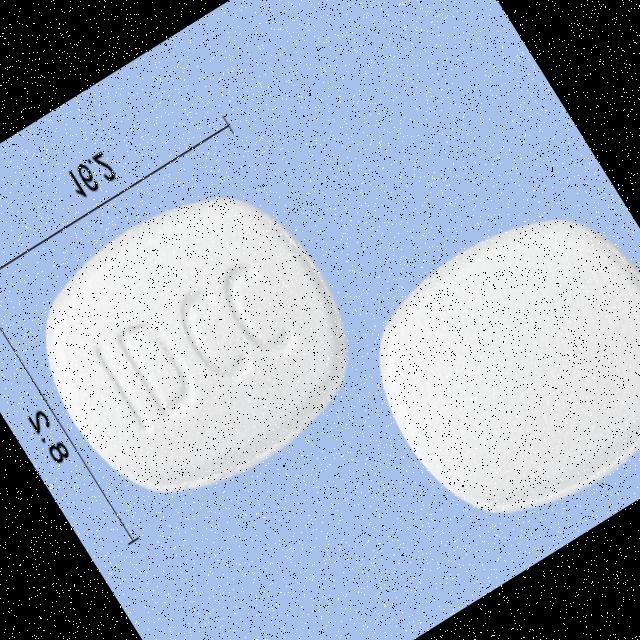Cycin: (1, 152, 394, 540), (334, 174, 640, 559)
